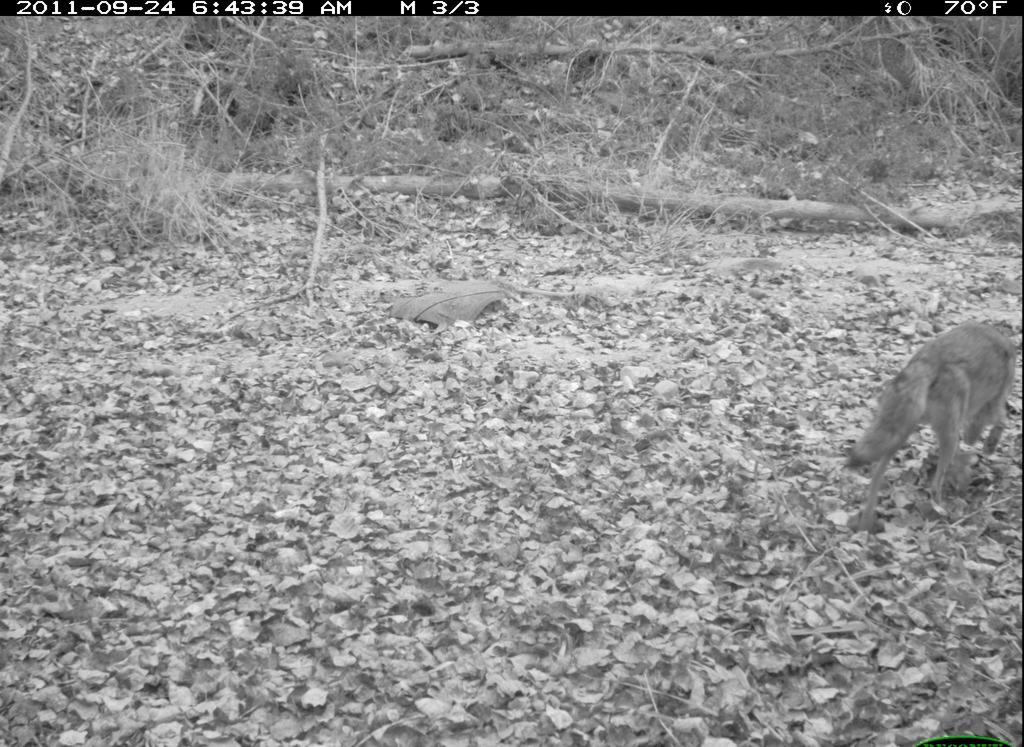coyote: (840, 303, 1022, 555)
